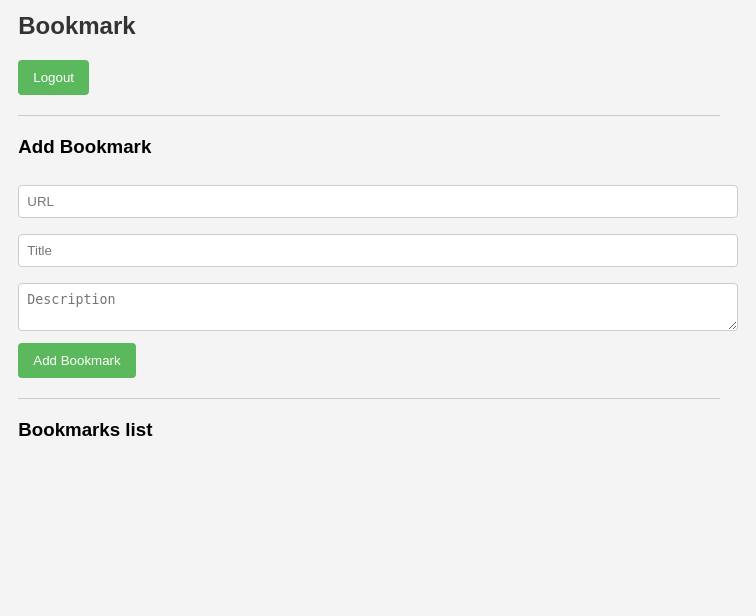
Test case: ブックマーク操作 › 追加するとリストに反映され、フォームが空に戻る
Check: the heading "Bookmarks list" is shown, box left=18, top=418, right=152, bottom=440
Type "https://new.example" into the field with placeholder "URL" at (378, 201), box left=18, top=184, right=738, bottom=218
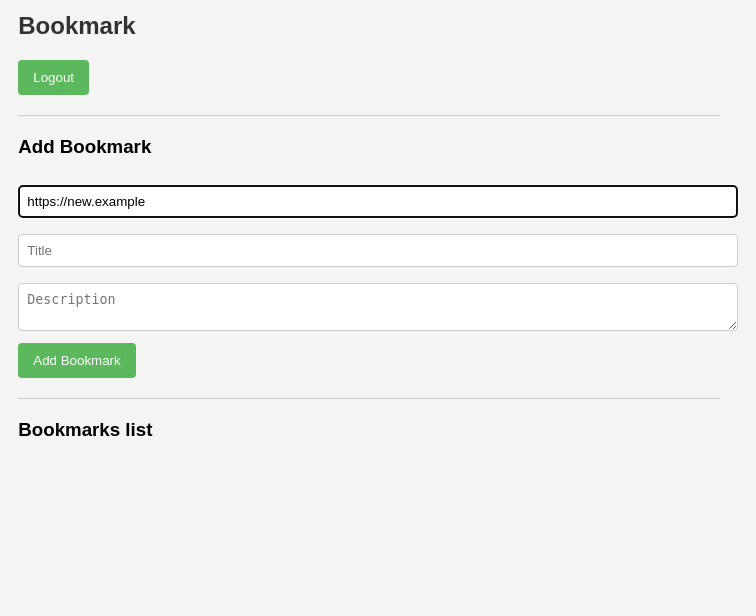
Type "New one" into the field with placeholder "Title" at (378, 250), box left=18, top=234, right=738, bottom=266
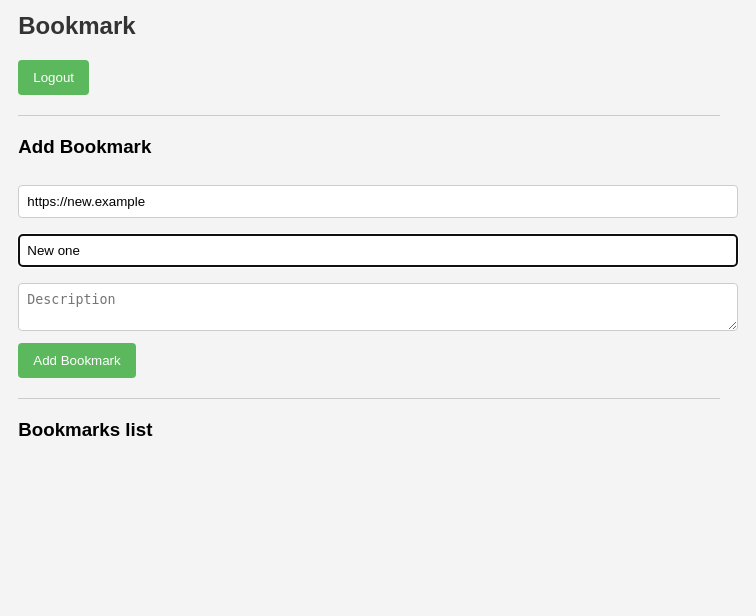
Type "desc" into the text box with placeholder "Description" at (378, 306), box left=18, top=282, right=738, bottom=330
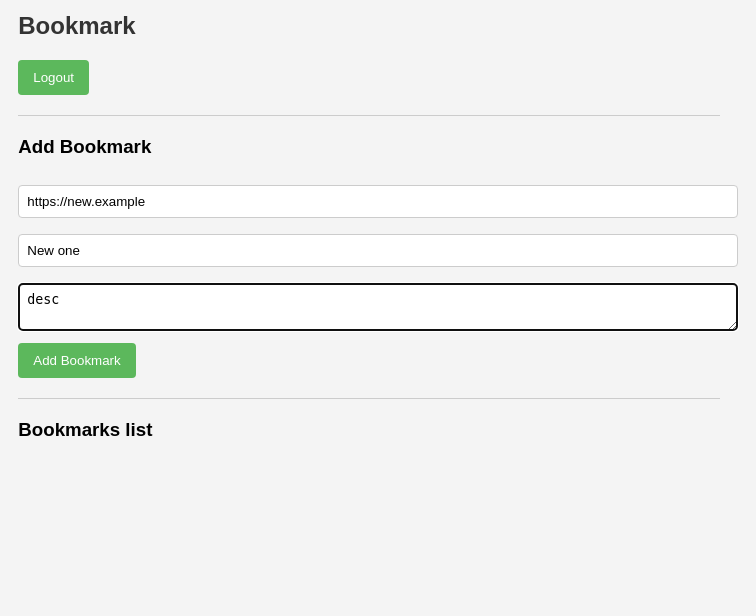
Click the button "Add Bookmark" at (77, 360), box left=18, top=342, right=136, bottom=378
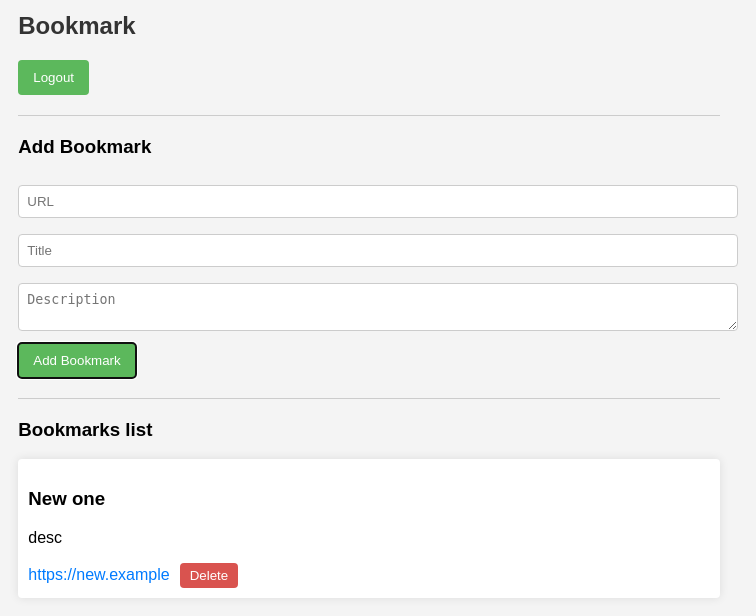
Check: the heading "New one" is shown, box left=28, top=488, right=105, bottom=509
Check: the field with placeholder "URL" is empty, box left=18, top=184, right=738, bottom=218
